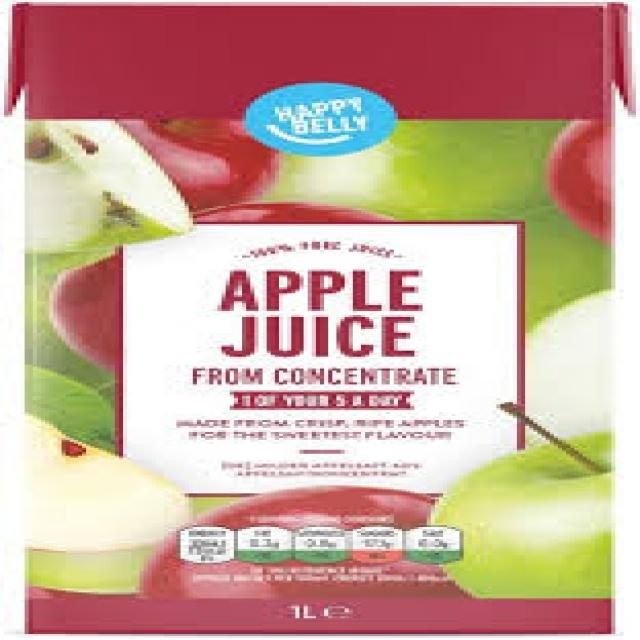non_white_jug: (2, 2, 617, 640)
